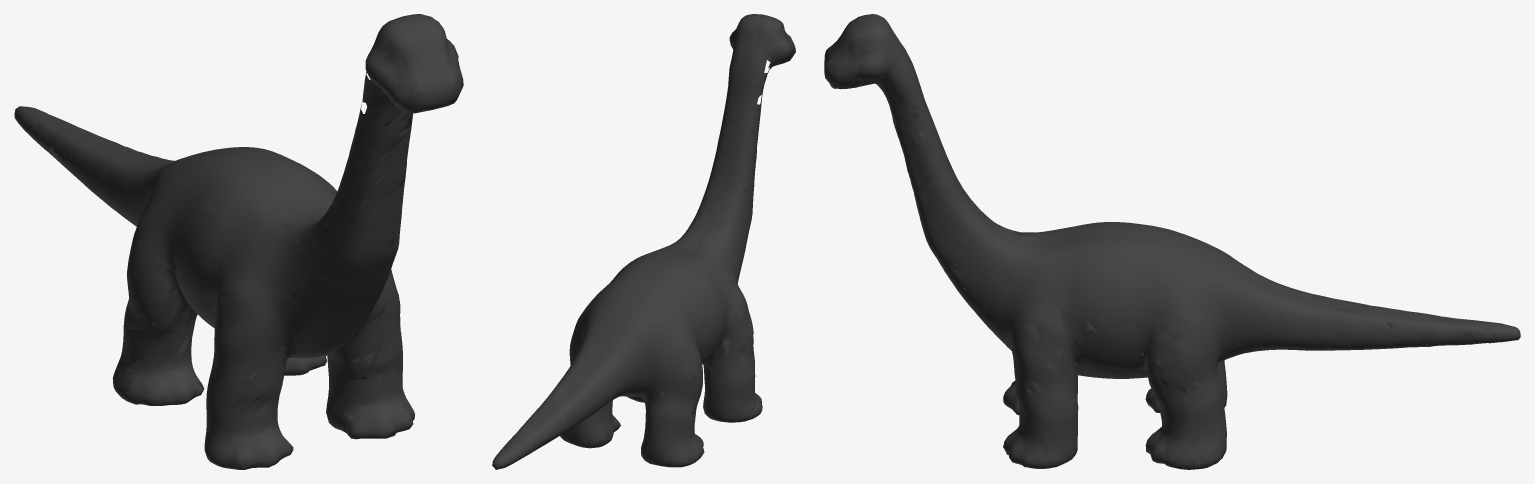
The model's file is diplodocus.glb.
3 renders of one model, left to right at view 1: azimuth 30°, elevation 25°; view 2: azimuth 150°, elevation 25°; view 3: azimuth 270°, elevation 25°, orthographic. The views are drawn at different scales.
Parts seen in each view (by area): view 1: geometry_0; view 2: geometry_0; view 3: geometry_0.
Boxes of the visible parts, <box> form: geometry_0: <box>14,14,463,469</box>; geometry_0: <box>492,14,795,469</box>; geometry_0: <box>824,14,1520,469</box>.
Size of the model in its own units: 0.2743 by 0.6539 by 1.
Materials: 1 (1 with a texture image).
